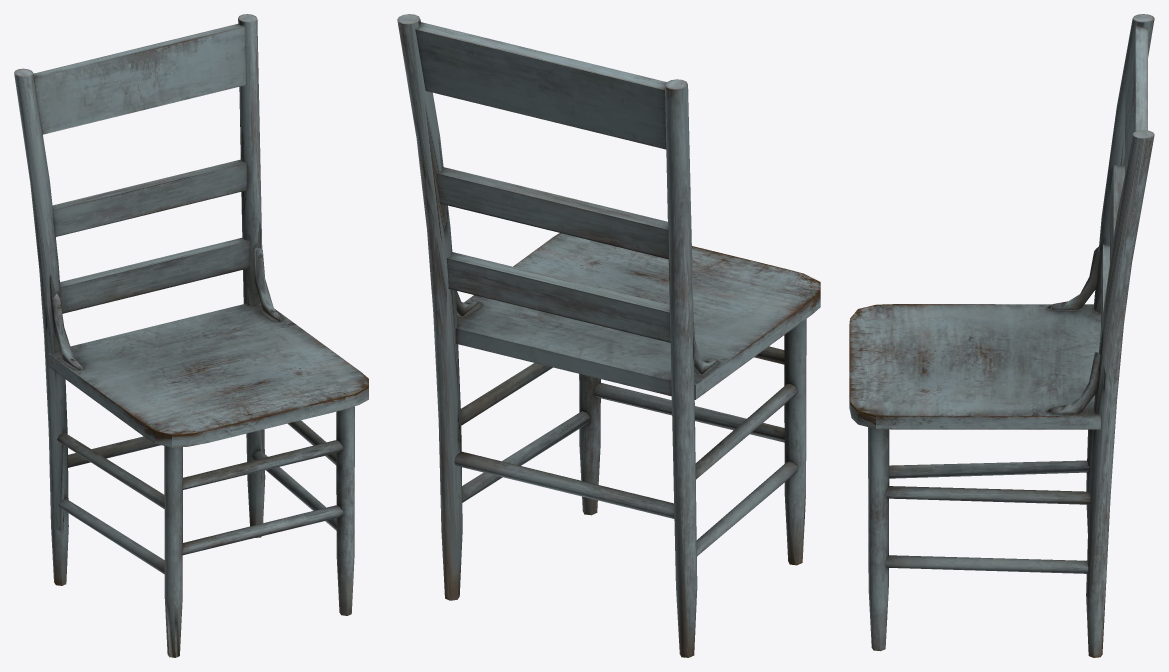
File: painted-wooden-chair-02.glb
The picture shows the model from 3 angles, left to right: view 1: azimuth 30°, elevation 25°; view 2: azimuth 150°, elevation 25°; view 3: azimuth 270°, elevation 25°; orthographic projection. The views are drawn at different scales.
Visible parts, largest first — view 1: painted_wooden_chair_02; view 2: painted_wooden_chair_02; view 3: painted_wooden_chair_02.
Boxes of the visible parts, x1,y1,x2,y2 form: painted_wooden_chair_02: (14, 14, 368, 657); painted_wooden_chair_02: (397, 14, 820, 657); painted_wooden_chair_02: (849, 14, 1154, 657).
Size of the model in its own units: 0.6394 by 1.26 by 0.6621.
1 material, 1 textured.
